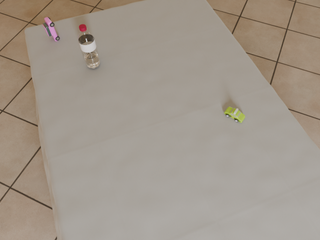bottle: (78, 24, 100, 69)
toy_car: (42, 17, 60, 41), (224, 107, 245, 123)
